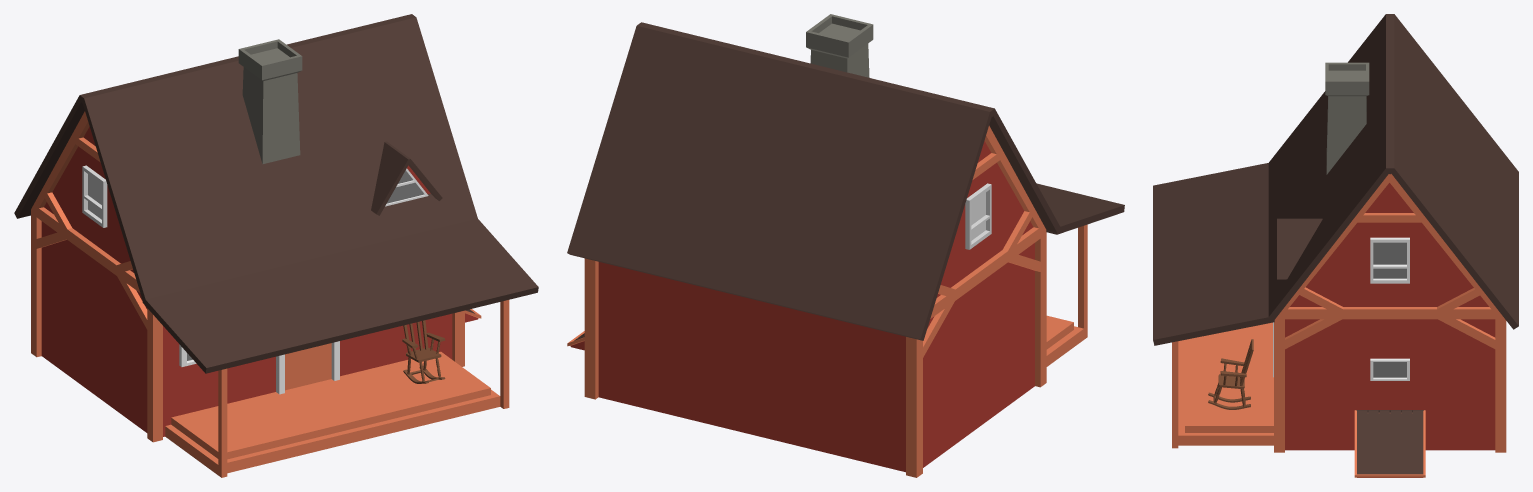
The model's file is FarmHouse.fbx.
The picture shows the model from 3 angles, left to right: view 1: azimuth 30°, elevation 25°; view 2: azimuth 150°, elevation 25°; view 3: azimuth 270°, elevation 25°; orthographic projection. The views are drawn at different scales.
Parts seen in each view (by area): view 1: Roof, Cube, Cube.008, Chimney, Roof.001, Cube.007, Rocking Chair, Cube.002, Cube.019, Cube.010, Cube.006; view 2: Roof, Cube, Cube.008, Chimney, Cube.006, Cube.002, Cube.019; view 3: Roof, Cube, Cube.006, Basement, Chimney, Cube.001, Roof.001, Rocking Chair, Cube.003, Cube.010.
Boxes of the visible parts, x1,y1,x2,y2 form: Roof: (14, 14, 538, 373); Cube: (41, 127, 500, 474); Cube.008: (31, 111, 162, 442); Chimney: (238, 39, 302, 163); Roof.001: (371, 141, 442, 215); Cube.007: (276, 341, 339, 394); Rocking Chair: (402, 320, 445, 383); Cube.002: (82, 165, 107, 227); Cube.019: (218, 368, 227, 477); Cube.010: (500, 300, 509, 408); Cube.006: (452, 310, 464, 366); Roof: (567, 22, 1124, 340); Cube: (598, 141, 1083, 472); Cube.008: (906, 125, 1046, 477); Chimney: (806, 14, 873, 77); Cube.006: (584, 258, 598, 399); Cube.002: (965, 183, 991, 249); Cube.019: (1078, 224, 1087, 339); Roof: (1153, 14, 1518, 345); Cube: (1178, 183, 1495, 450); Cube.006: (1274, 174, 1506, 452); Basement: (1354, 410, 1425, 477); Chimney: (1325, 62, 1369, 174); Cube.001: (1370, 237, 1409, 283); Roof.001: (1277, 218, 1322, 279); Rocking Chair: (1208, 339, 1253, 409); Cube.003: (1370, 358, 1409, 380); Cube.010: (1172, 341, 1178, 448).
Size of the model in its own units: 189 by 153 by 165.
